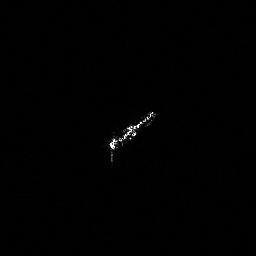ship: (105, 108, 159, 164)
